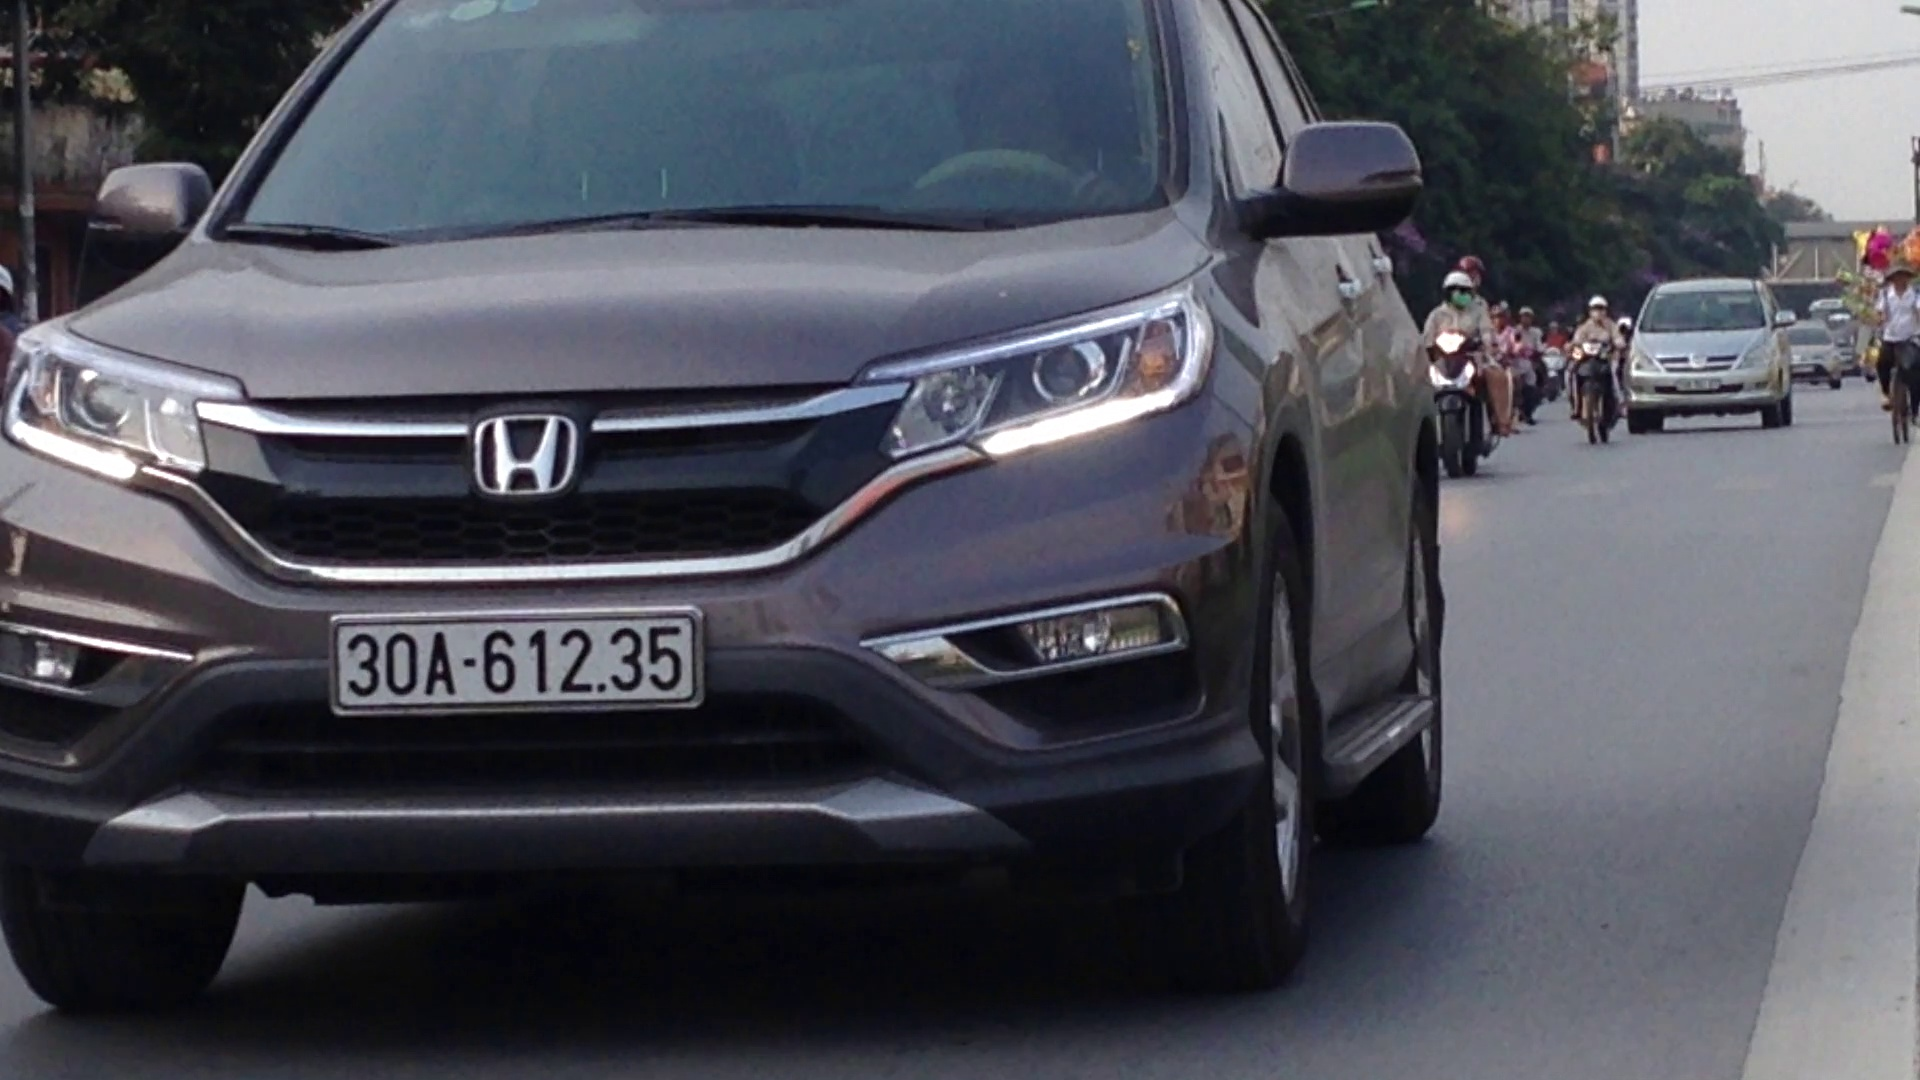person: (322, 601, 711, 713)
